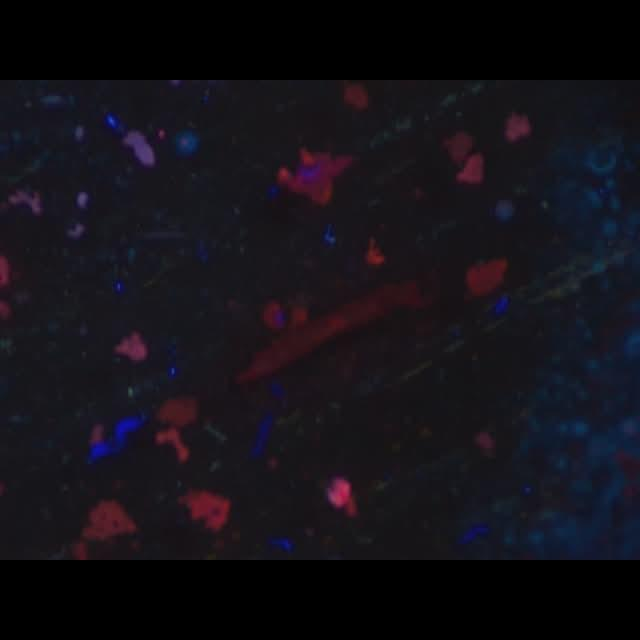Fragment: (276, 146, 352, 207)
